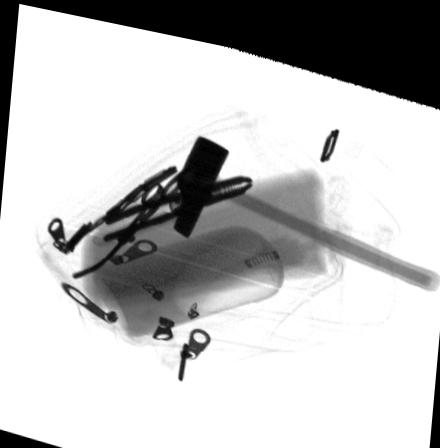Hammer: (172, 126, 440, 275)
Knife: (82, 156, 180, 232)
Pliers: (97, 165, 252, 241)
Scissors: (72, 158, 193, 276)
